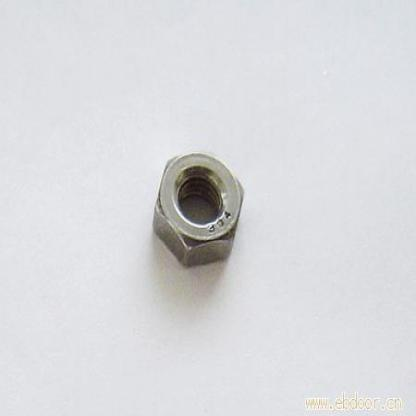FOD: (145, 148, 249, 272)
